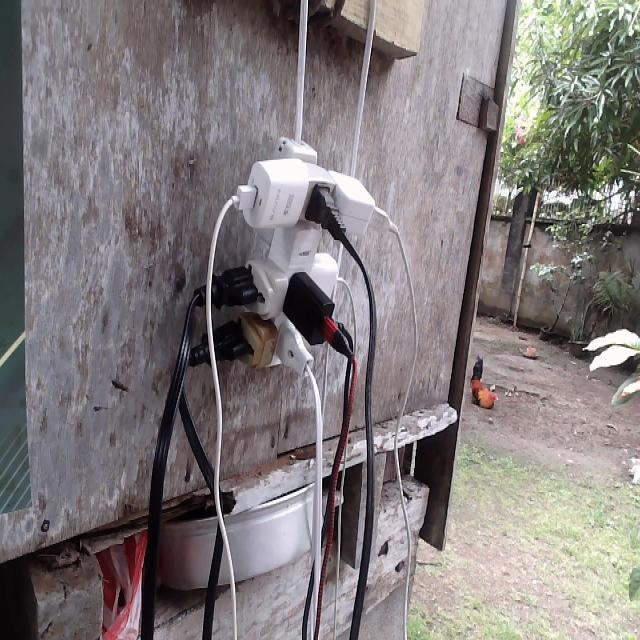-: (181, 136, 397, 380)
